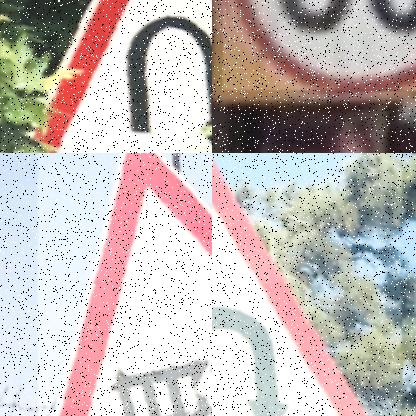Railway Crossing: (61, 153, 212, 416)
Speed Limit -60 kmph-: (215, 0, 416, 97)
U-Turn: (212, 158, 367, 416)
